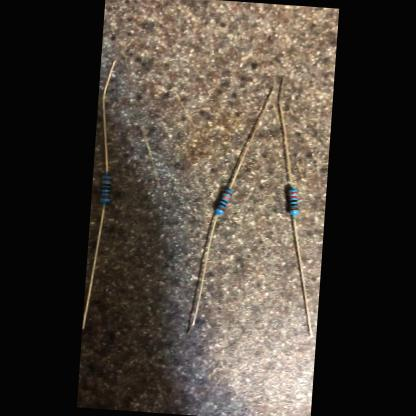resistor: (214, 188, 233, 214), (286, 188, 301, 216), (99, 174, 113, 204)
wire: (230, 84, 274, 192), (284, 216, 320, 336), (188, 214, 218, 336), (272, 76, 301, 188), (82, 204, 105, 331), (97, 60, 116, 173)
